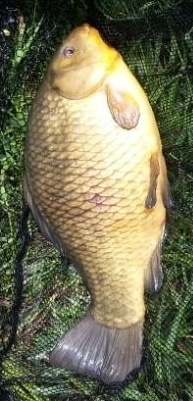Carassius carassius: (20, 20, 173, 381)
